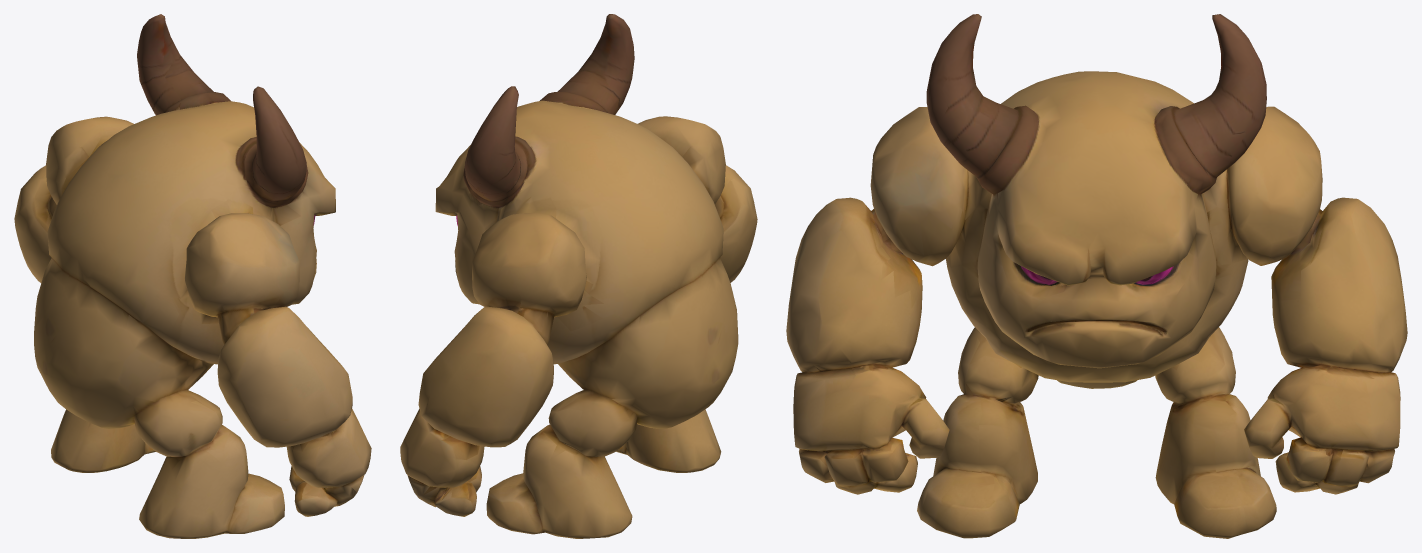
3 views of the same model, side by side, from view 1: azimuth 30°, elevation 25°; view 2: azimuth 150°, elevation 25°; view 3: azimuth 270°, elevation 25° (orthographic). The views are drawn at different scales.
Parts seen in each view (by area): view 1: tripo_node_ff885cac-3136-4fe6-aa50-332a81430b0b; view 2: tripo_node_ff885cac-3136-4fe6-aa50-332a81430b0b; view 3: tripo_node_ff885cac-3136-4fe6-aa50-332a81430b0b.
Part boxes in pixels (x1,y1,x2,y2): tripo_node_ff885cac-3136-4fe6-aa50-332a81430b0b: (14,14,371,538); tripo_node_ff885cac-3136-4fe6-aa50-332a81430b0b: (400,14,757,538); tripo_node_ff885cac-3136-4fe6-aa50-332a81430b0b: (786,14,1407,538).
Size of the model in its own units: 59.5 by 91.51 by 100.
1 material, 1 textured.
